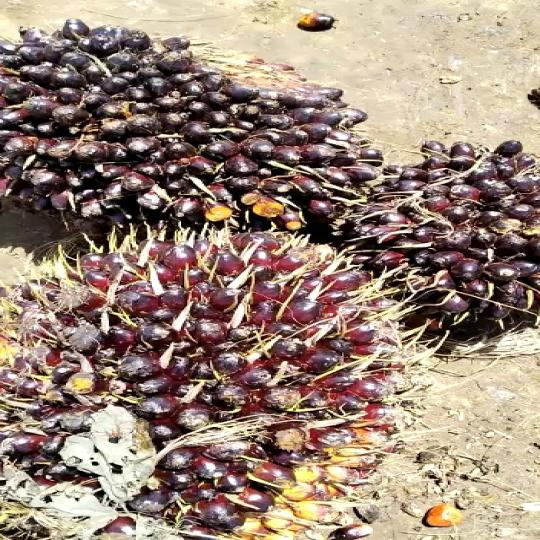mentah: (0, 229, 439, 540), (0, 5, 380, 241), (331, 143, 540, 353)
